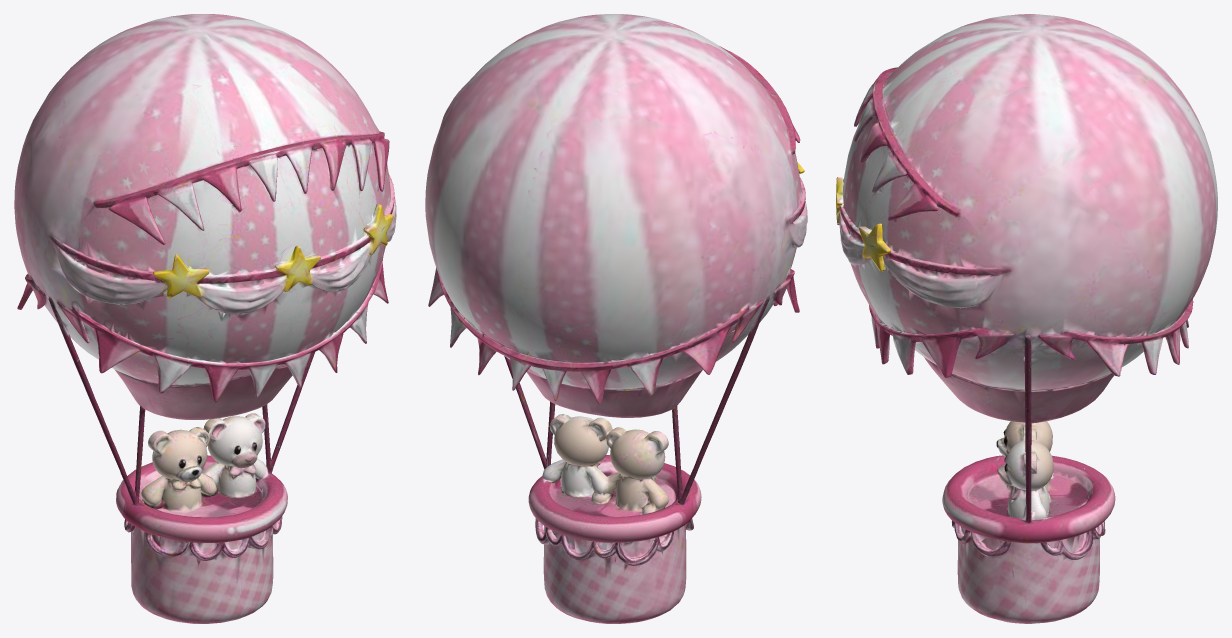
3 views of the same model, side by side, from view 1: azimuth 30°, elevation 25°; view 2: azimuth 150°, elevation 25°; view 3: azimuth 270°, elevation 25° (orthographic).
Size of the model in its own units: 1.13 by 1.9 by 1.15.
1 material, 1 textured.
